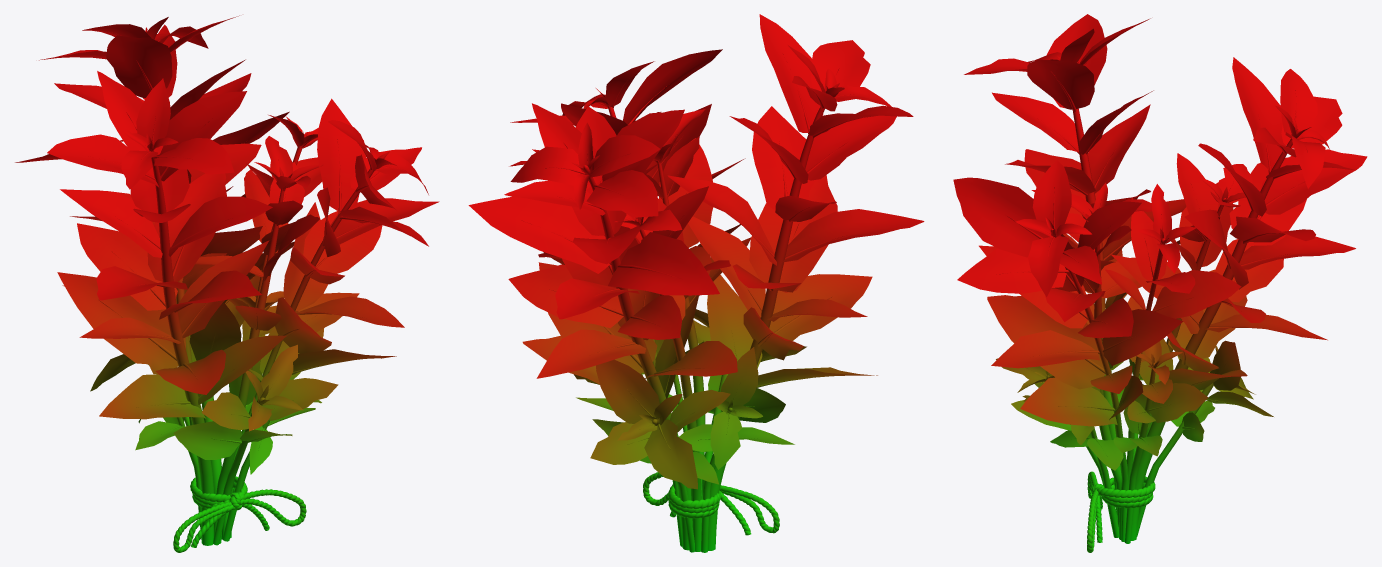
The model's file is Var8_LOD0.fbx.
3 renders of one model, left to right at view 1: azimuth 30°, elevation 25°; view 2: azimuth 150°, elevation 25°; view 3: azimuth 270°, elevation 25°, orthographic. The views are drawn at different scales.
Parts seen in each view (by area): view 1: _soey_Var8_LOD0; view 2: _soey_Var8_LOD0; view 3: _soey_Var8_LOD0.
Part boxes in pixels (x1=…): _soey_Var8_LOD0: x1=15, y1=15, x2=439, y2=552; _soey_Var8_LOD0: x1=468, y1=14, x2=924, y2=552; _soey_Var8_LOD0: x1=953, y1=14, x2=1367, y2=552.
Size of the model in its own units: 23.4 by 28.73 by 22.68.
